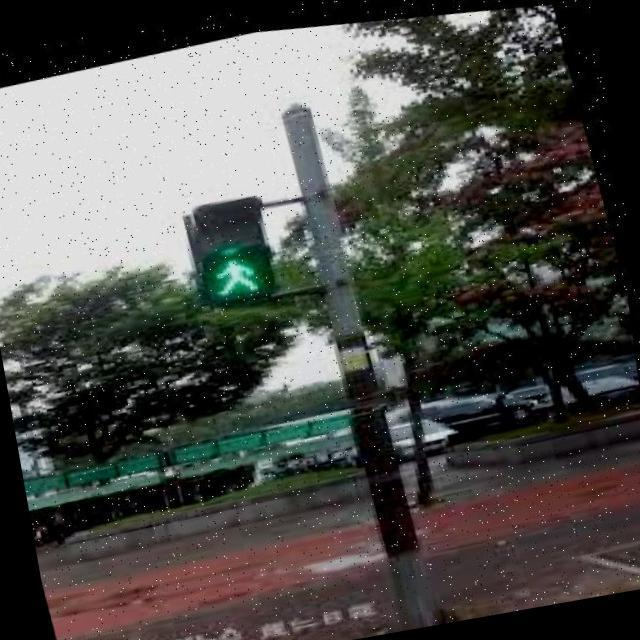greenlight: (186, 200, 283, 317)
